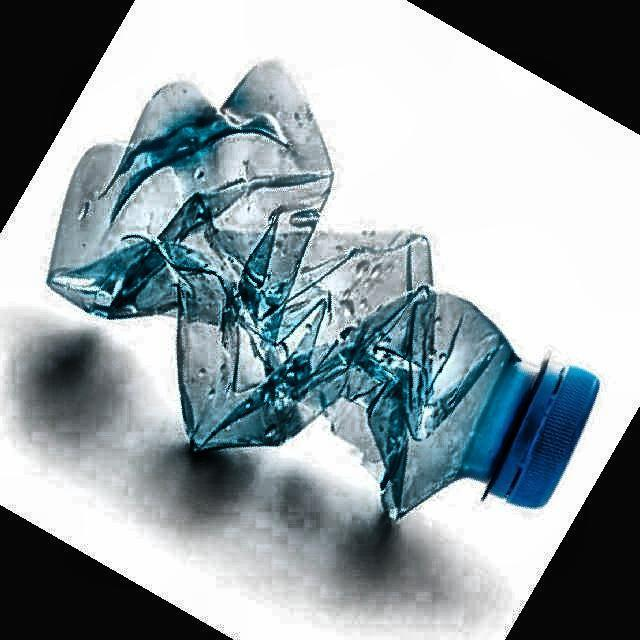plastic: (48, 62, 599, 519)
